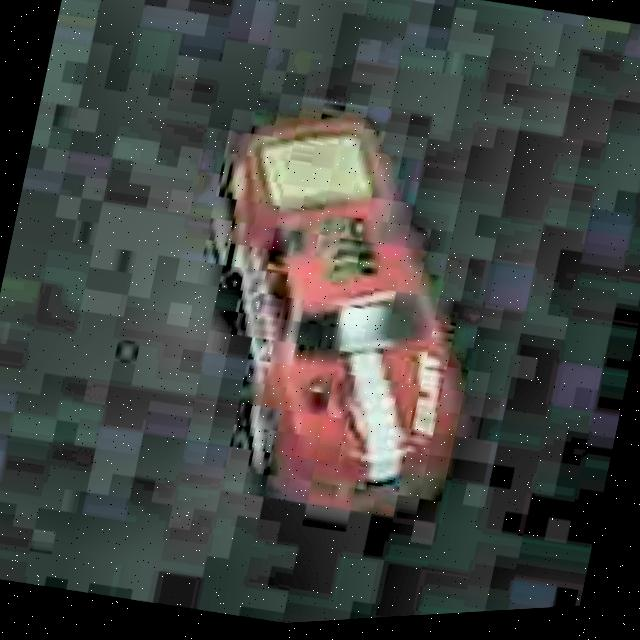car: (146, 68, 526, 551)
